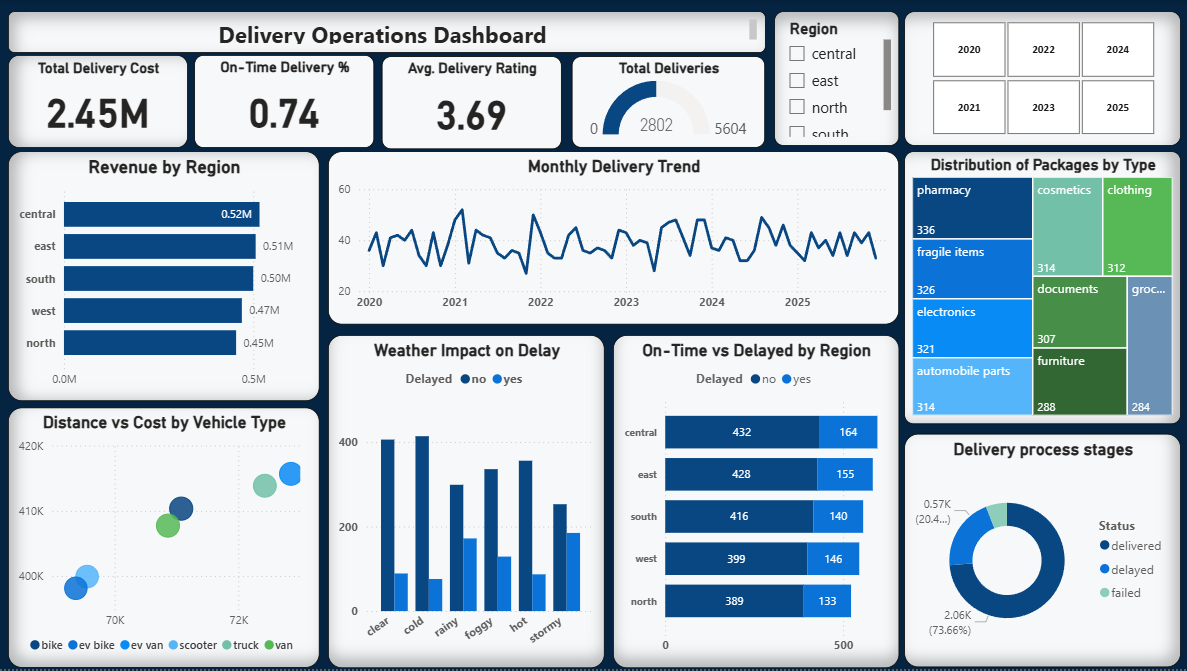

This screenshot's page, from the dashboard's own definition file:
{"tool":"powerbi","page":{"name":"Page 1","canvas":[1280,720],"ordinal":0},"visuals":[{"type":"card","title":"Avg. Delivery Rating","fields":{"Values":["Delivery Sheet.Avg_delivery_rating"]},"box":[413.3,60.7,193.6,99.7],"z":0},{"type":"card","title":"On-Time Delivery %","fields":{"Values":["Delivery Sheet.On-Time Delivery %"]},"box":[211,59.2,193.6,99.7],"z":1000},{"type":"card","title":"Total Delivery Cost","fields":{"Values":["Sum(Delivery Sheet.delivery_cost)"]},"box":[10.1,59.2,193.6,99.7],"z":2000},{"type":"textbox","box":[10.1,11.6,815,44.8],"z":3000},{"type":"lineChart","title":"Monthly Delivery Trend","fields":{"Y":["Delivery Sheet.Total_deliveries"],"Category":["Delivery Sheet.shipped_date.Variation.Date Hierarchy.Year","Delivery Sheet.shipped_date.Variation.Date Hierarchy.Month"]},"box":[355.5,163.3,614.1,186.4],"z":4000},{"type":"barChart","title":"On-Time vs Delayed by Region","fields":{"Category":["Delivery Sheet.region"],"Y":["CountNonNull(Delivery Sheet.delayed)"],"Series":["Delivery Sheet.delayed"]},"box":[661.8,359.8,307.8,358.4],"z":5000},{"type":"barChart","title":"Revenue by Region","fields":{"Category":["Delivery Sheet.region"],"Y":["Sum(Delivery Sheet.delivery_cost)"]},"box":[10.1,163.3,335.2,268.8],"z":6000},{"type":"scatterChart","title":"Distance vs Cost by Vehicle Type","fields":{"X":["Sum(Delivery Sheet.distance_km)"],"Y":["Sum(Delivery Sheet.delivery_cost)"],"Size":["Sum(Delivery Sheet.package_weight_kg)"],"Series":["Delivery Sheet.vehicle_type"]},"box":[10.1,437.8,335.2,280.3],"z":7000},{"type":"slicer","title":"Years","fields":{"Values":["Delivery Sheet.shipped_date.Variation.Date Hierarchy.Year"]},"box":[975.4,11.6,297.7,144.5],"z":8000},{"type":"slicer","fields":{"Values":["Delivery Sheet.region"]},"box":[835.2,11.6,134.4,144.5],"z":9000},{"type":"gauge","title":"Total Deliveries","fields":{"Y":["Delivery Sheet.Total_deliveries"]},"box":[617,60.7,208.1,98.3],"z":10000},{"type":"lineClusteredColumnComboChart","title":"Weather Impact on Delay","fields":{"Category":["Delivery Sheet.weather_condition"],"Y":["CountNonNull(Delivery Sheet.delayed)"],"Series":["Delivery Sheet.delayed"]},"box":[355.5,359.8,297.7,358.4],"z":11000},{"type":"treemap","title":"Distribution of Packages by Type","fields":{"Group":["Delivery Sheet.package_type"],"Values":["CountNonNull(Delivery Sheet.package_type)"]},"box":[975.4,163.3,297.7,293.3],"z":12000},{"type":"donutChart","title":"Delivery process stages","fields":{"Category":["Delivery Sheet.delivery_status"],"Y":["CountNonNull(Delivery Sheet.delivery_status)"]},"box":[975.4,466.7,297.7,251.4],"z":13000}]}

Visuals, with their boxes in screenshot pixels (x1, y1, x2, y2), scaled from the page's 1280x720 canvas onto the 1187x671 screenshot:
"Avg. Delivery Rating" card: box=[383, 57, 563, 149]
"On-Time Delivery %" card: box=[196, 55, 375, 148]
"Total Delivery Cost" card: box=[9, 55, 189, 148]
textbox: box=[9, 11, 765, 53]
"Monthly Delivery Trend" lineChart: box=[330, 152, 899, 326]
"On-Time vs Delayed by Region" barChart: box=[614, 335, 899, 669]
"Revenue by Region" barChart: box=[9, 152, 320, 403]
"Distance vs Cost by Vehicle Type" scatterChart: box=[9, 408, 320, 669]
"Years" slicer: box=[905, 11, 1181, 145]
slicer - Delivery Sheet.region: box=[775, 11, 899, 145]
"Total Deliveries" gauge: box=[572, 57, 765, 148]
"Weather Impact on Delay" lineClusteredColumnComboChart: box=[330, 335, 606, 669]
"Distribution of Packages by Type" treemap: box=[905, 152, 1181, 426]
"Delivery process stages" donutChart: box=[905, 435, 1181, 669]
